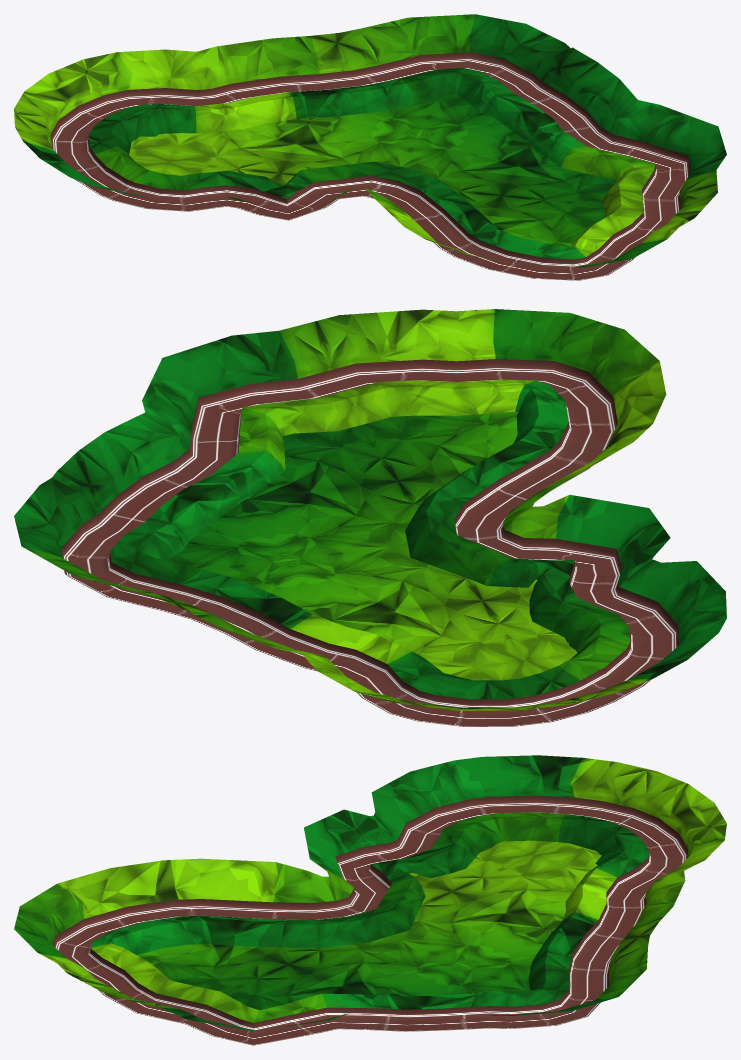
File: track.gltf
3 renders of one model, top to bottom at view 1: azimuth 30°, elevation 25°; view 2: azimuth 150°, elevation 25°; view 3: azimuth 270°, elevation 25°, orthographic. The views are drawn at different scales.
Parts seen in each view (by area): view 1: TRACK1 outerBank, track TRACK1, TRACK1 GroundPlane, TRACK1 innerBank; view 2: TRACK1 outerBank, TRACK1 GroundPlane, track TRACK1, TRACK1 innerBank; view 3: TRACK1 outerBank, track TRACK1, TRACK1 GroundPlane, TRACK1 innerBank.
Part boxes in pixels (left/top/right/bottom): TRACK1 outerBank: left=14, top=14, right=726, bottom=267; track TRACK1: left=51, top=52, right=689, bottom=280; TRACK1 GroundPlane: left=129, top=94, right=616, bottom=247; TRACK1 innerBank: left=88, top=67, right=655, bottom=259; TRACK1 outerBank: left=14, top=309, right=726, bottom=710; TRACK1 GroundPlane: left=167, top=411, right=576, bottom=680; track TRACK1: left=61, top=359, right=678, bottom=726; TRACK1 innerBank: left=110, top=379, right=629, bottom=699; TRACK1 outerBank: left=14, top=755, right=726, bottom=1030; track TRACK1: left=52, top=795, right=688, bottom=1045; TRACK1 GroundPlane: left=137, top=840, right=601, bottom=1009; TRACK1 innerBank: left=90, top=812, right=648, bottom=1023.
Size of the model in its own units: 158 by 13.6 by 173.
2 materials, 2 textured.
